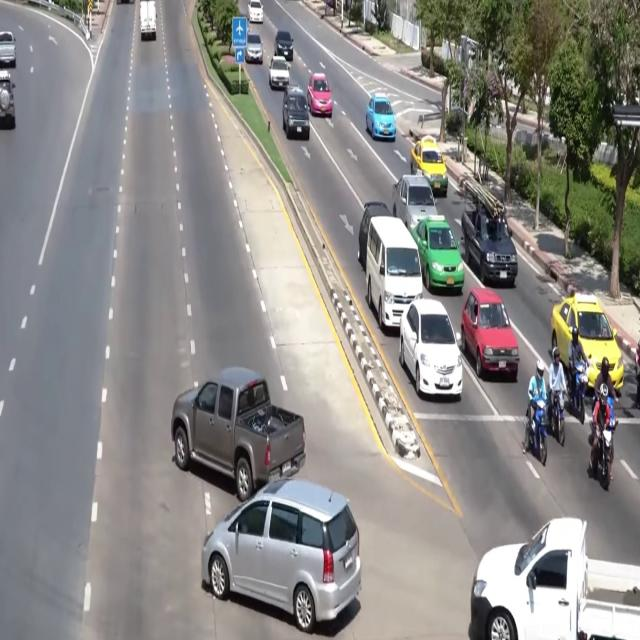car: (202, 479, 360, 633), (551, 293, 623, 390), (399, 299, 462, 398), (461, 288, 518, 381), (411, 215, 464, 294), (392, 175, 437, 230), (411, 136, 448, 197), (358, 201, 391, 269), (283, 86, 309, 140), (366, 94, 396, 140), (307, 73, 332, 117), (0, 71, 15, 128), (269, 56, 289, 89), (274, 30, 293, 61), (245, 32, 263, 64), (0, 32, 16, 68), (248, 0, 263, 23)
scooty: (596, 397, 618, 490), (523, 399, 547, 465), (572, 360, 588, 424), (551, 391, 565, 446), (635, 340, 639, 407)
truck: (470, 518, 639, 639), (171, 368, 305, 502), (461, 177, 518, 286), (140, 0, 156, 39)
